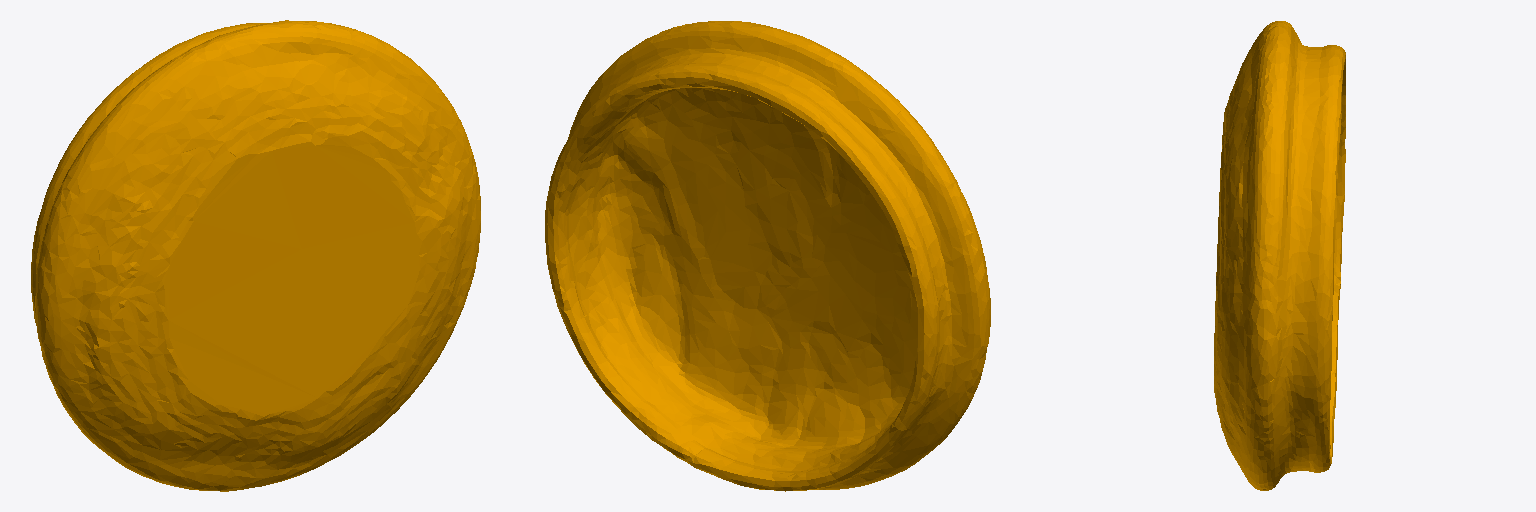
URDF robot description (teacuplid):
<?xml version="1.0" ?>
<!-- auto-generated by gen_object_urdf.py (TactiDex import) -->
<robot name="teacuplid">
  <link name="bottom">
    <inertial>
      <origin rpy="0 0 0" xyz="0.00053198307 0.0017924634 0.00021668453"/>
      <mass value="0.2"/>
      <inertia ixx="8.2756181e-05" ixy="2.1900029e-06" ixz="1.7386235e-07"
               iyy="0.00015257434" iyz="-1.7246982e-06" izz="8.3190725e-05"/>
    </inertial>
    <visual>
      <origin rpy="0 0 0" xyz="0 0 0"/>
      <geometry><mesh filename="teacuplid.obj" scale="1 1 1"/></geometry>
    </visual>
      <collision>
        <origin rpy="0 0 0" xyz="0 0 0"/>
        <geometry><mesh filename="collision_parts/part_000.obj" scale="1 1 1"/></geometry>
      </collision>
      <collision>
        <origin rpy="0 0 0" xyz="0 0 0"/>
        <geometry><mesh filename="collision_parts/part_001.obj" scale="1 1 1"/></geometry>
      </collision>
      <collision>
        <origin rpy="0 0 0" xyz="0 0 0"/>
        <geometry><mesh filename="collision_parts/part_002.obj" scale="1 1 1"/></geometry>
      </collision>
      <collision>
        <origin rpy="0 0 0" xyz="0 0 0"/>
        <geometry><mesh filename="collision_parts/part_003.obj" scale="1 1 1"/></geometry>
      </collision>
      <collision>
        <origin rpy="0 0 0" xyz="0 0 0"/>
        <geometry><mesh filename="collision_parts/part_004.obj" scale="1 1 1"/></geometry>
      </collision>
      <collision>
        <origin rpy="0 0 0" xyz="0 0 0"/>
        <geometry><mesh filename="collision_parts/part_005.obj" scale="1 1 1"/></geometry>
      </collision>
      <collision>
        <origin rpy="0 0 0" xyz="0 0 0"/>
        <geometry><mesh filename="collision_parts/part_006.obj" scale="1 1 1"/></geometry>
      </collision>
      <collision>
        <origin rpy="0 0 0" xyz="0 0 0"/>
        <geometry><mesh filename="collision_parts/part_007.obj" scale="1 1 1"/></geometry>
      </collision>
      <collision>
        <origin rpy="0 0 0" xyz="0 0 0"/>
        <geometry><mesh filename="collision_parts/part_008.obj" scale="1 1 1"/></geometry>
      </collision>
      <collision>
        <origin rpy="0 0 0" xyz="0 0 0"/>
        <geometry><mesh filename="collision_parts/part_009.obj" scale="1 1 1"/></geometry>
      </collision>
      <collision>
        <origin rpy="0 0 0" xyz="0 0 0"/>
        <geometry><mesh filename="collision_parts/part_010.obj" scale="1 1 1"/></geometry>
      </collision>
      <collision>
        <origin rpy="0 0 0" xyz="0 0 0"/>
        <geometry><mesh filename="collision_parts/part_011.obj" scale="1 1 1"/></geometry>
      </collision>
      <collision>
        <origin rpy="0 0 0" xyz="0 0 0"/>
        <geometry><mesh filename="collision_parts/part_012.obj" scale="1 1 1"/></geometry>
      </collision>
      <collision>
        <origin rpy="0 0 0" xyz="0 0 0"/>
        <geometry><mesh filename="collision_parts/part_013.obj" scale="1 1 1"/></geometry>
      </collision>
      <collision>
        <origin rpy="0 0 0" xyz="0 0 0"/>
        <geometry><mesh filename="collision_parts/part_014.obj" scale="1 1 1"/></geometry>
      </collision>
      <collision>
        <origin rpy="0 0 0" xyz="0 0 0"/>
        <geometry><mesh filename="collision_parts/part_015.obj" scale="1 1 1"/></geometry>
      </collision>
      <collision>
        <origin rpy="0 0 0" xyz="0 0 0"/>
        <geometry><mesh filename="collision_parts/part_016.obj" scale="1 1 1"/></geometry>
      </collision>
      <collision>
        <origin rpy="0 0 0" xyz="0 0 0"/>
        <geometry><mesh filename="collision_parts/part_017.obj" scale="1 1 1"/></geometry>
      </collision>
      <collision>
        <origin rpy="0 0 0" xyz="0 0 0"/>
        <geometry><mesh filename="collision_parts/part_018.obj" scale="1 1 1"/></geometry>
      </collision>
      <collision>
        <origin rpy="0 0 0" xyz="0 0 0"/>
        <geometry><mesh filename="collision_parts/part_019.obj" scale="1 1 1"/></geometry>
      </collision>
      <collision>
        <origin rpy="0 0 0" xyz="0 0 0"/>
        <geometry><mesh filename="collision_parts/part_020.obj" scale="1 1 1"/></geometry>
      </collision>
      <collision>
        <origin rpy="0 0 0" xyz="0 0 0"/>
        <geometry><mesh filename="collision_parts/part_021.obj" scale="1 1 1"/></geometry>
      </collision>
      <collision>
        <origin rpy="0 0 0" xyz="0 0 0"/>
        <geometry><mesh filename="collision_parts/part_022.obj" scale="1 1 1"/></geometry>
      </collision>
      <collision>
        <origin rpy="0 0 0" xyz="0 0 0"/>
        <geometry><mesh filename="collision_parts/part_023.obj" scale="1 1 1"/></geometry>
      </collision>
  </link>
</robot>

--- What the picture shows (computed from the rendered views, not written in the file) ---
The picture shows the robot from 3 angles, left to right: view 1: azimuth 30°, elevation 25°; view 2: azimuth 150°, elevation 25°; view 3: azimuth 270°, elevation 25°; orthographic projection.
Robot: teacuplid — 1 links, 0 joints (none); root link bottom; default pose: every joint at zero.
Visible links, largest first — view 1: bottom; view 2: bottom; view 3: bottom.
Boxes of the visible links, box(x1,y1,x2,y2) form: bottom: box(31, 20, 480, 491); bottom: box(545, 21, 990, 491); bottom: box(1214, 21, 1345, 490).
Bounding box of the posed robot: 0.0839 × 0.0237 × 0.0839 m (x, y, z).
Meshes: 1 distinct files referenced, 1 mesh visuals loaded (1 OBJ).
